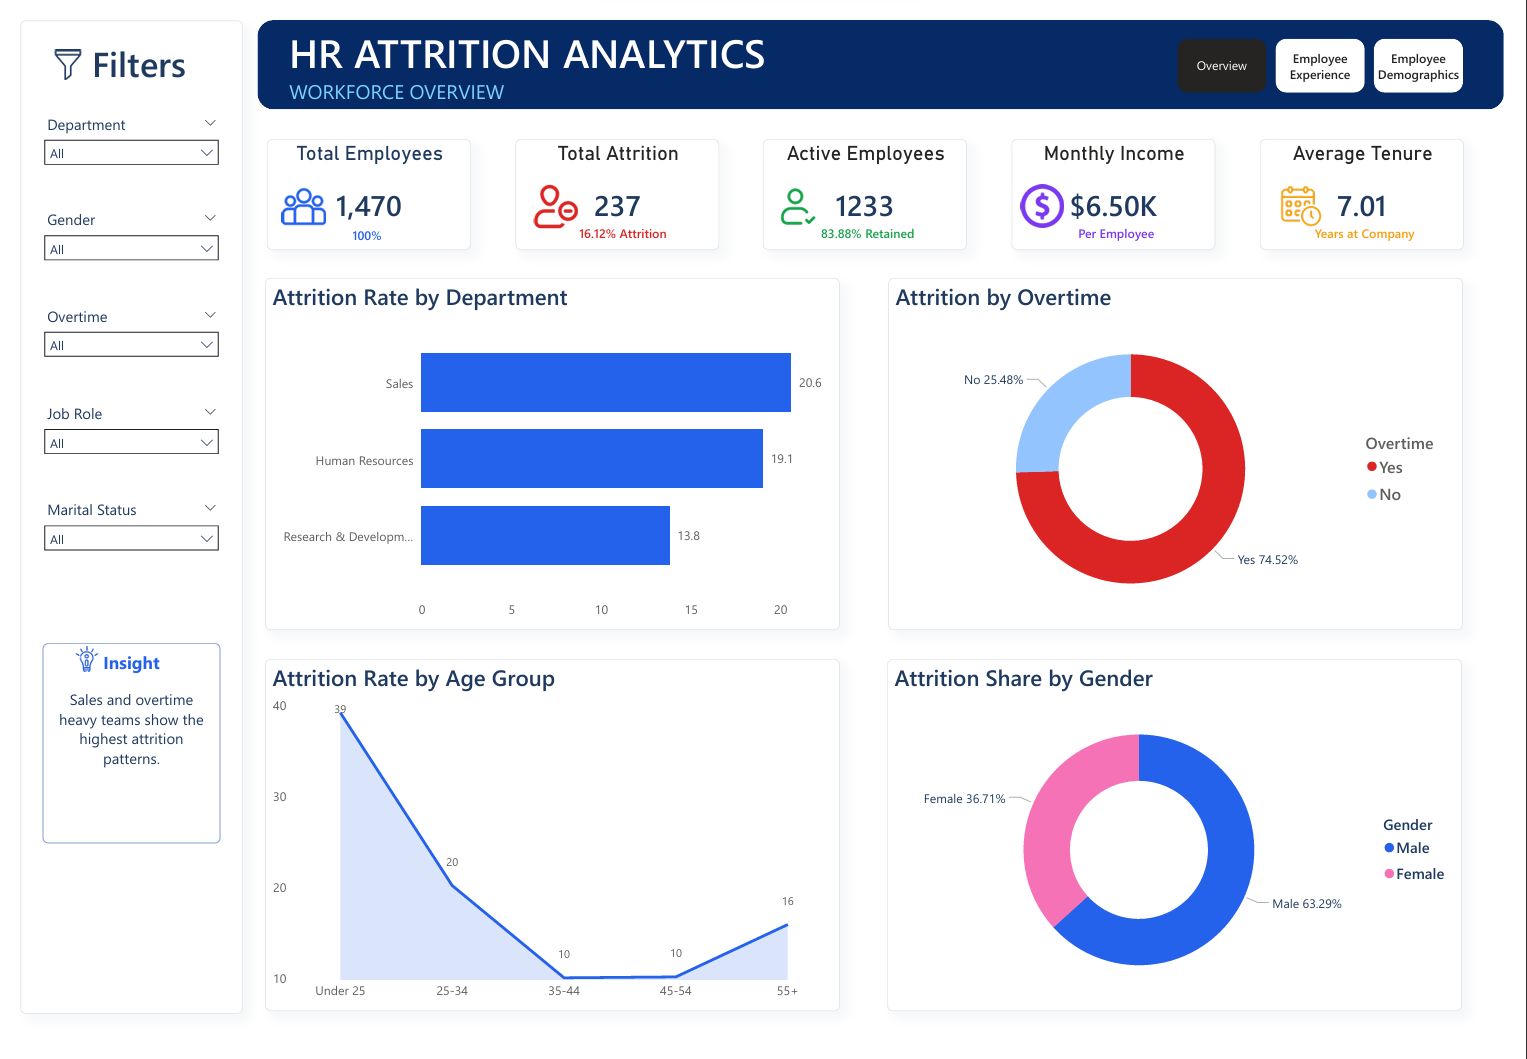

This screenshot's page, from the dashboard's own definition file:
{"tool":"powerbi","page":{"name":"Overview","canvas":[1600,1100],"ordinal":0},"visuals":[{"type":"shape","box":[256,0,1344,96],"z":0},{"type":"cardVisual","title":"Total Employees","fields":{"Data":["Sum(public vw_workforce_summary.total_employees)"]},"box":[266,127.8,220,120],"z":1000},{"type":"textbox","box":[285,0,528,96],"z":2000},{"type":"cardVisual","title":"Total Attrition","fields":{"Data":["Sum(public vw_workforce_summary.total_attrition)"]},"box":[533.7,127.8,220,120],"z":3000},{"type":"pageNavigator","box":[1248,20,308,58],"z":4000},{"type":"cardVisual","title":"Active Employees","fields":{"Data":["Sum(public vw_workforce_summary.active_employees)"]},"box":[801.3,127.8,220,120],"z":5000},{"type":"cardVisual","title":"Monthly Income","fields":{"Data":["Sum(public vw_workforce_summary.average_monthly_income)"]},"box":[1069,127.8,220,120],"z":6000},{"type":"cardVisual","title":"Average Tenure ","fields":{"Data":["Sum(public vw_workforce_summary.average_tenure)"]},"box":[1336.7,127.8,220,120],"z":7000},{"type":"shape","box":[0,0,240,1072],"z":8000},{"type":"image","box":[282,177,48,48],"z":9000},{"type":"textbox","box":[346,218,56,32],"z":10000},{"type":"image","box":[554,177,48,48],"z":11000},{"type":"textbox","box":[586,215.8,128,32],"z":12000},{"type":"image","box":[814,176.8,48,48],"z":13000},{"type":"textbox","box":[858,215.8,112,32],"z":14000},{"type":"image","box":[1079,176.8,47,47],"z":15000},{"type":"image","box":[1358,176.8,47,47],"z":16000},{"type":"textbox","box":[1130,215.8,104,32],"z":17000},{"type":"textbox","box":[1386,215.8,128,32],"z":18000},{"type":"clusteredBarChart","title":"Attrition Rate by Department","fields":{"Category":["public vw_department_attrition.department"],"Y":["Avg(public vw_department_attrition.attrition_rate)"]},"box":[264,278,620,380],"z":19000},{"type":"donutChart","title":"Attrition by Overtime","fields":{"Category":["public vw_overtime_attrition.overtime"],"Y":["Avg(public vw_overtime_attrition.attrition_rate)"]},"box":[936,278,620,380],"z":20000},{"type":"areaChart","title":"Attrition Rate by Age Group","fields":{"Y":["Avg(public vw_age_group_attrition.attrition_rate)"],"Category":["public vw_age_group_attrition.age_group"]},"box":[264,689,620,380],"z":21000},{"type":"donutChart","title":"Attrition Share by Gender","fields":{"Category":["public vw_gender_attrition.gender"],"Y":["Sum(public vw_gender_attrition.total_attrition)"]},"box":[935,689,620,380],"z":22000},{"type":"slicer","fields":{"Values":["public employee_attrition.department"]},"box":[16.2,95.8,208,95],"z":23000},{"type":"slicer","fields":{"Values":["public employee_attrition.gender"]},"box":[16.2,199.1,208,96],"z":24000},{"type":"slicer","fields":{"Values":["public employee_attrition.overtime"]},"box":[16.2,303.3,208,96],"z":25000},{"type":"slicer","fields":{"Values":["public employee_attrition.job_role"]},"box":[16.2,407.6,208,96],"z":26000},{"type":"slicer","fields":{"Values":["public employee_attrition.marital_status"]},"box":[16.2,511.8,208,96],"z":27000},{"type":"textbox","box":[64,16,128,64],"z":28000},{"type":"image","box":[35,32,33,33],"z":29000},{"type":"textbox","box":[24,672,192,216],"z":30000},{"type":"image","box":[58,676,28,28],"z":31000}]}

Visuals, with their boxes in screenshot pixels (x1, y1, x2, y2), scaled from the page's 1600x1100 canvas onto the 1527x1059 screenshot:
shape: bbox=[244, 0, 1526, 92]
"Total Employees" cardVisual: bbox=[254, 123, 464, 239]
textbox: bbox=[272, 0, 776, 92]
"Total Attrition" cardVisual: bbox=[509, 123, 719, 239]
pageNavigator: bbox=[1191, 19, 1485, 75]
"Active Employees" cardVisual: bbox=[765, 123, 975, 239]
"Monthly Income" cardVisual: bbox=[1020, 123, 1230, 239]
"Average Tenure " cardVisual: bbox=[1276, 123, 1486, 239]
shape: bbox=[0, 0, 229, 1032]
image: bbox=[269, 170, 315, 217]
textbox: bbox=[330, 210, 384, 241]
image: bbox=[529, 170, 575, 217]
textbox: bbox=[559, 208, 681, 239]
image: bbox=[777, 170, 823, 216]
textbox: bbox=[819, 208, 926, 239]
image: bbox=[1030, 170, 1075, 215]
image: bbox=[1296, 170, 1341, 215]
textbox: bbox=[1078, 208, 1178, 239]
textbox: bbox=[1323, 208, 1445, 239]
"Attrition Rate by Department" clusteredBarChart: bbox=[252, 268, 844, 633]
"Attrition by Overtime" donutChart: bbox=[893, 268, 1485, 633]
"Attrition Rate by Age Group" areaChart: bbox=[252, 663, 844, 1029]
"Attrition Share by Gender" donutChart: bbox=[892, 663, 1484, 1029]
slicer - public employee_attrition.department: bbox=[15, 92, 214, 184]
slicer - public employee_attrition.gender: bbox=[15, 192, 214, 284]
slicer - public employee_attrition.overtime: bbox=[15, 292, 214, 384]
slicer - public employee_attrition.job_role: bbox=[15, 392, 214, 485]
slicer - public employee_attrition.marital_status: bbox=[15, 493, 214, 585]
textbox: bbox=[61, 15, 183, 77]
image: bbox=[33, 31, 65, 63]
textbox: bbox=[23, 647, 206, 855]
image: bbox=[55, 651, 82, 678]
